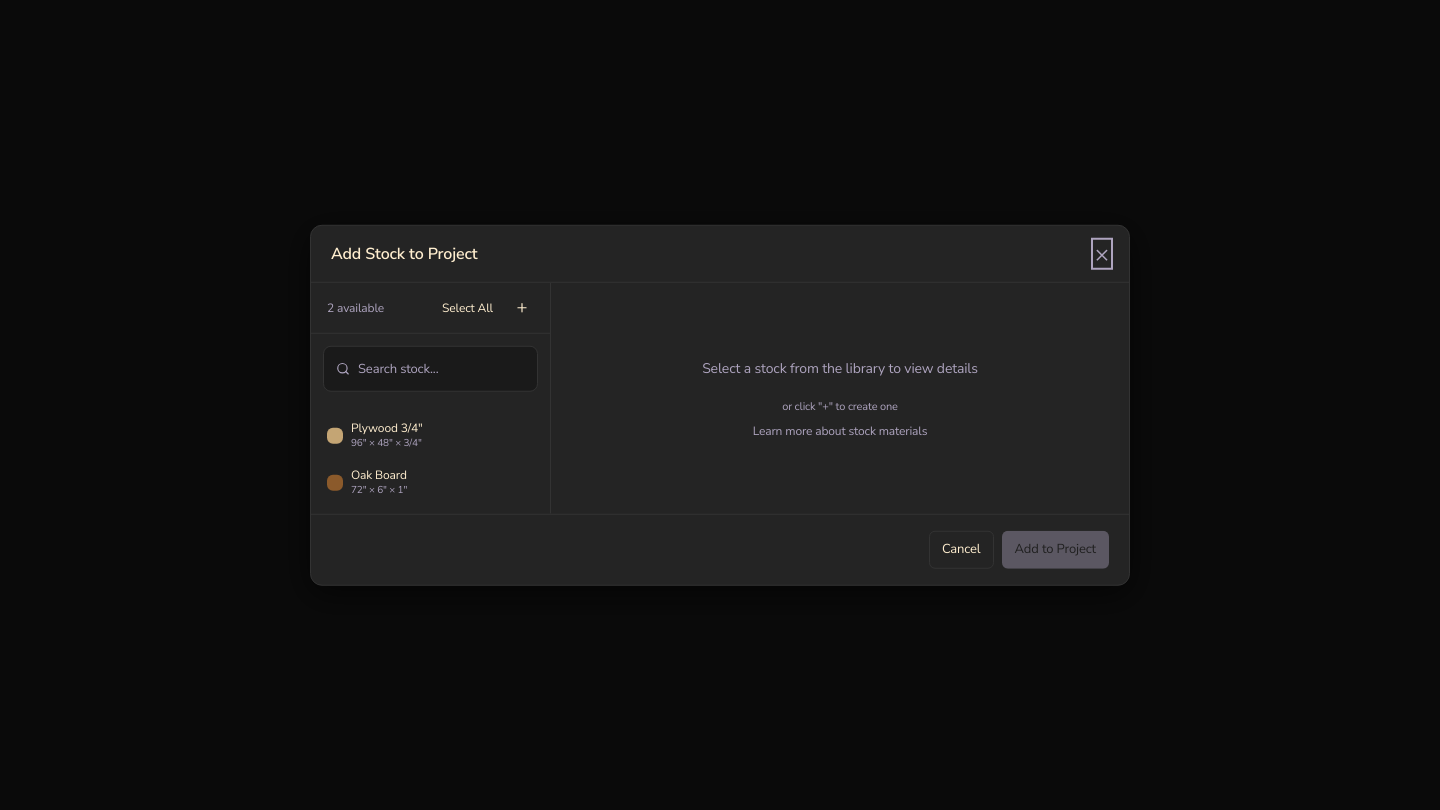
Test: AddStockModal › create new stock › shows form fields in create mode
Click the button titled "Create new stock" at point(522, 308), box left=510, top=296, right=534, bottom=320
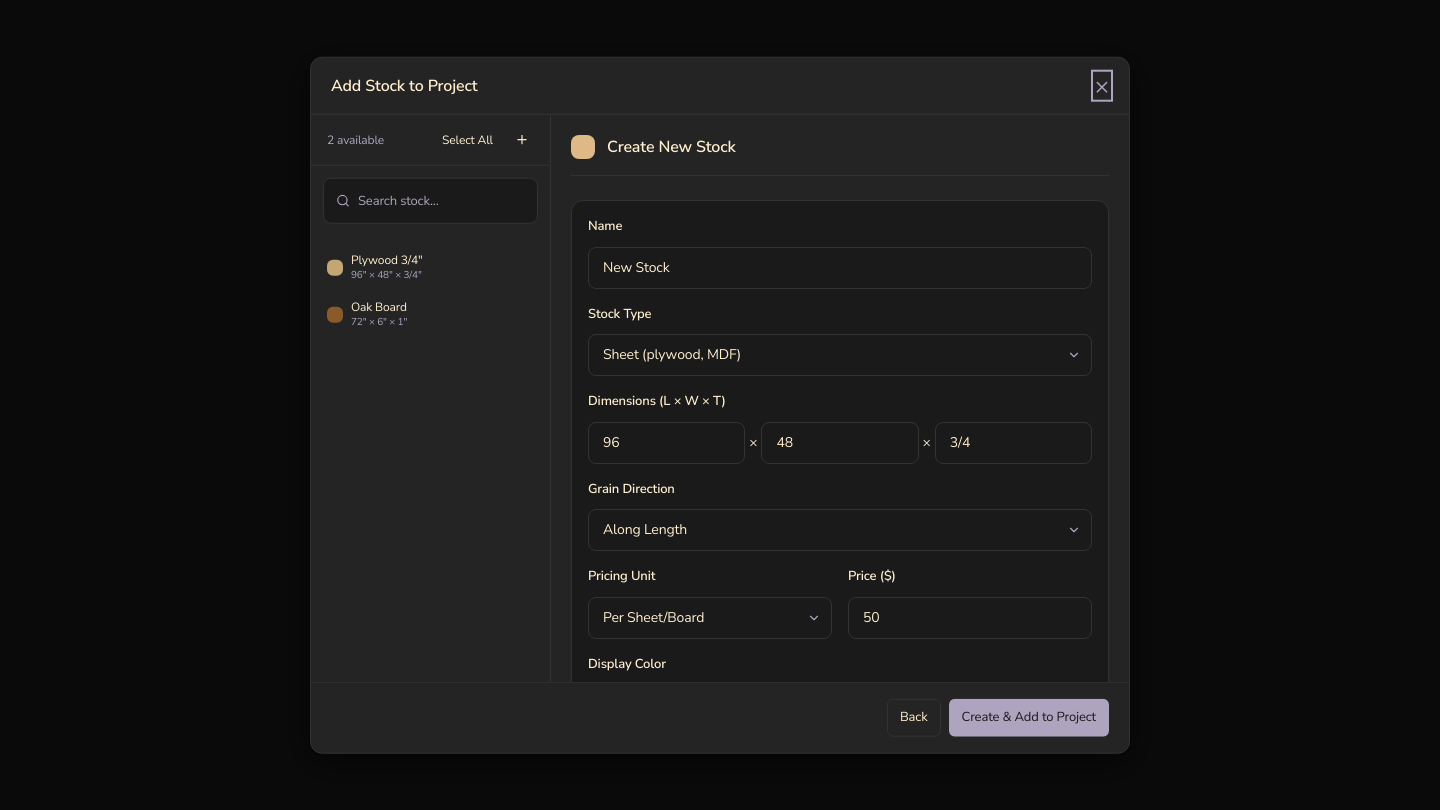
Check: the text "Name" is shown, box left=588, top=217, right=622, bottom=235
Check: the text "Dimensions (L × W × T)" is shown, box left=588, top=392, right=726, bottom=410
Check: the text "Grain Direction" is shown, box left=588, top=479, right=675, bottom=497
